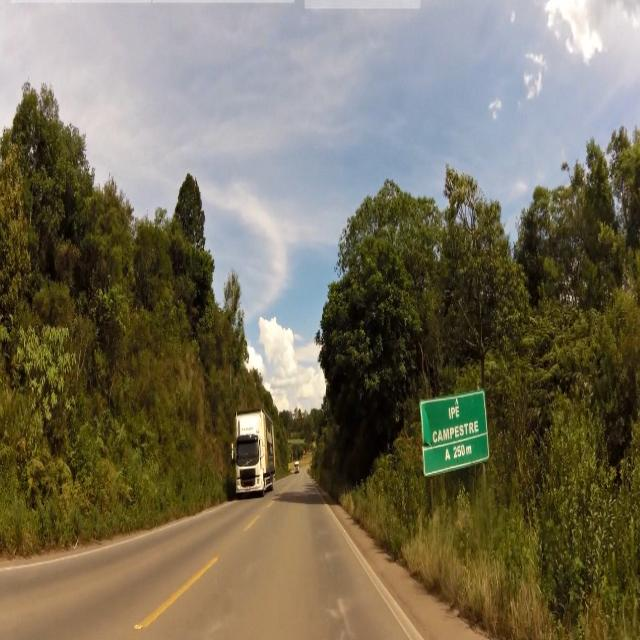I-4: (421, 394, 490, 468)
